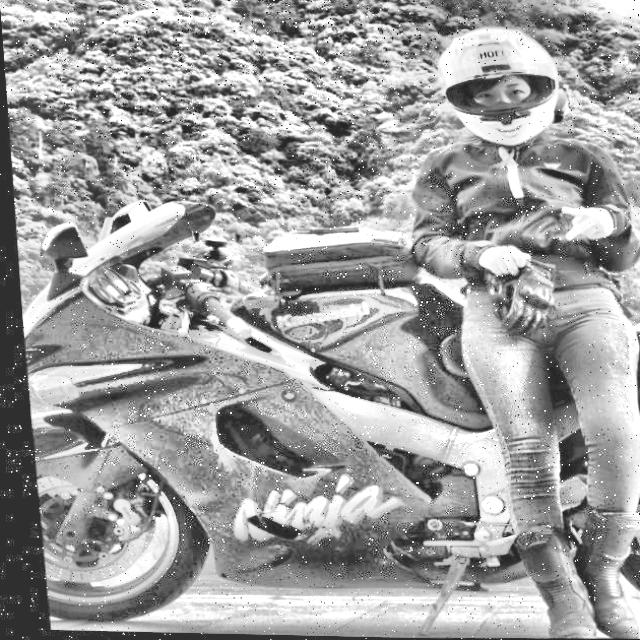Helmet: (428, 21, 570, 158)
